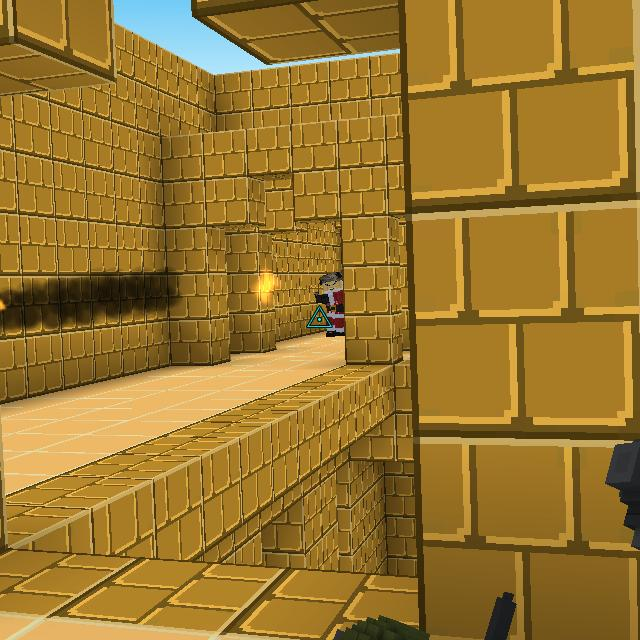enemy: (315, 271, 345, 338)
